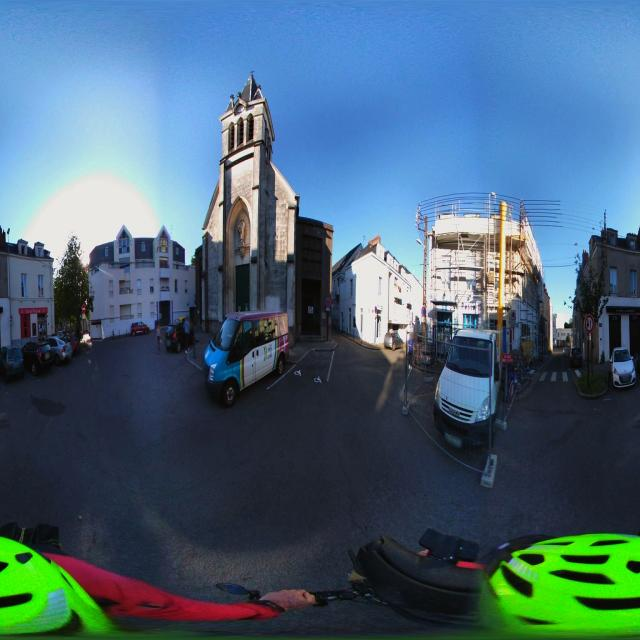car: (433, 327, 506, 453), (202, 311, 292, 408), (17, 337, 53, 375), (610, 346, 636, 389), (3, 346, 25, 382), (43, 334, 68, 365), (55, 333, 73, 361), (130, 319, 151, 336), (568, 347, 583, 369)
